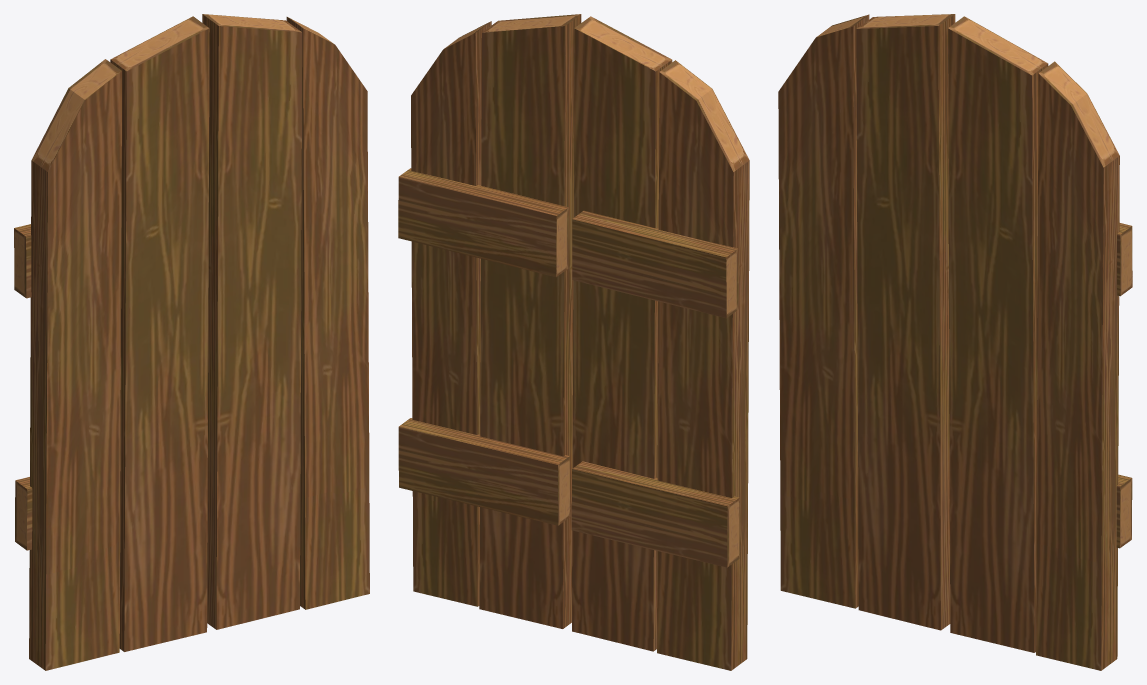
File: WindowShutters_Thin_Round_Closed.glb
3 renders of one model, left to right at view 1: azimuth 30°, elevation 25°; view 2: azimuth 150°, elevation 25°; view 3: azimuth 330°, elevation 25°, orthographic.
Visible parts, largest first — view 1: WindowShutters_Thin_Round_Closed; view 2: WindowShutters_Thin_Round_Closed; view 3: WindowShutters_Thin_Round_Closed.
Part boxes in pixels (<box>): WindowShutters_Thin_Round_Closed: <box>14,14,369,670</box>; WindowShutters_Thin_Round_Closed: <box>398,14,749,670</box>; WindowShutters_Thin_Round_Closed: <box>778,14,1132,670</box>.
Bounding box in the file's own units: 0.8674 × 1.52 × 0.1357.
Materials: 1 (1 with a texture image).
